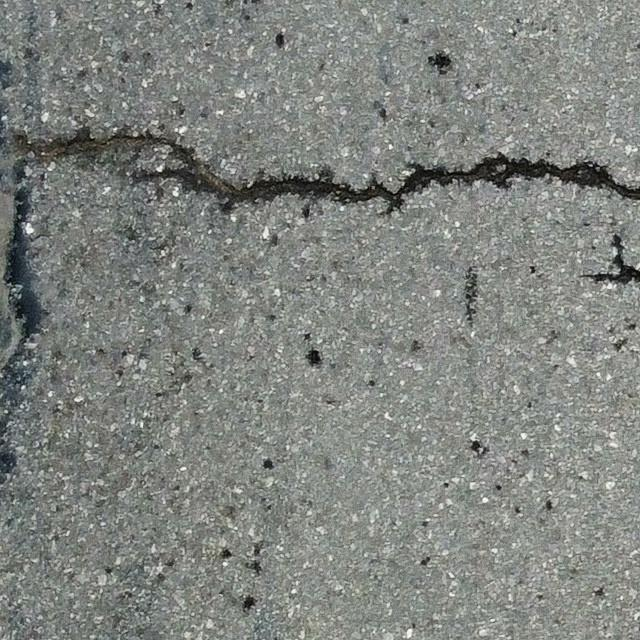TransverseCrack: (29, 137, 640, 218)
